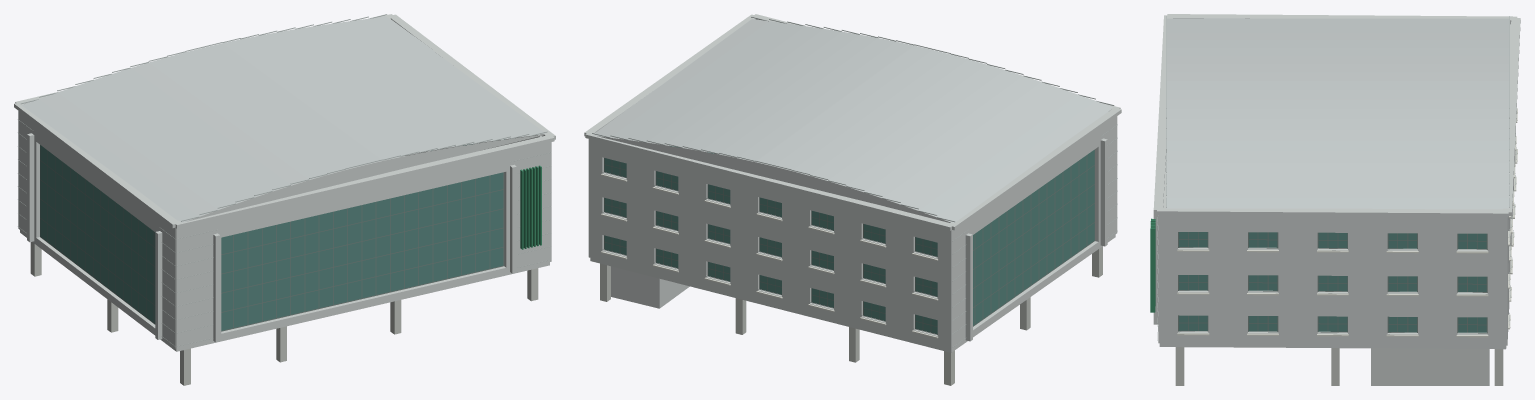
The picture shows the model from 3 angles, left to right: view 1: azimuth 30°, elevation 25°; view 2: azimuth 150°, elevation 25°; view 3: azimuth 270°, elevation 25°; orthographic projection. The views are drawn at different scales.
Parts seen in each view (by area): view 1: gym__roof-metal, gym__glass, gym__panel, gym__frame, gym__pilotis-column, gym__rail, gym__roof; view 2: gym__panel, gym__roof-metal, gym__glass, gym__frame, gym__pilotis-column, gym__rail, gym__white; view 3: gym__roof-metal, gym__panel, gym__glass, gym__frame, gym__white, gym__rail, gym__pilotis-column, gym__roof.
Boxes of the visible parts, left/top/right/bottom form: gym__roof-metal: left=22, top=16, right=545, bottom=222; gym__glass: left=40, top=139, right=505, bottom=330; gym__panel: left=14, top=14, right=555, bottom=351; gym__frame: left=40, top=145, right=504, bottom=331; gym__pilotis-column: left=30, top=242, right=538, bottom=385; gym__rail: left=18, top=14, right=551, bottom=346; gym__roof: left=520, top=165, right=541, bottom=249; gym__panel: left=584, top=14, right=1121, bottom=352; gym__roof-metal: left=593, top=19, right=1112, bottom=223; gym__glass: left=604, top=145, right=1094, bottom=333; gym__frame: left=604, top=149, right=1094, bottom=334; gym__pilotis-column: left=600, top=246, right=1102, bottom=385; gym__rail: left=592, top=16, right=1117, bottom=347; gym__white: left=600, top=173, right=938, bottom=338; gym__roof-metal: left=1166, top=18, right=1509, bottom=209; gym__panel: left=1153, top=14, right=1520, bottom=385; gym__glass: left=1179, top=232, right=1486, bottom=332; gym__frame: left=1178, top=232, right=1487, bottom=333; gym__white: left=1177, top=108, right=1517, bottom=337; gym__rail: left=1157, top=16, right=1516, bottom=340; gym__pilotis-column: left=1175, top=347, right=1503, bottom=385; gym__roof: left=1150, top=218, right=1155, bottom=312.
Bounding box in the file's own units: 35.86 × 16.29 × 28.07.
